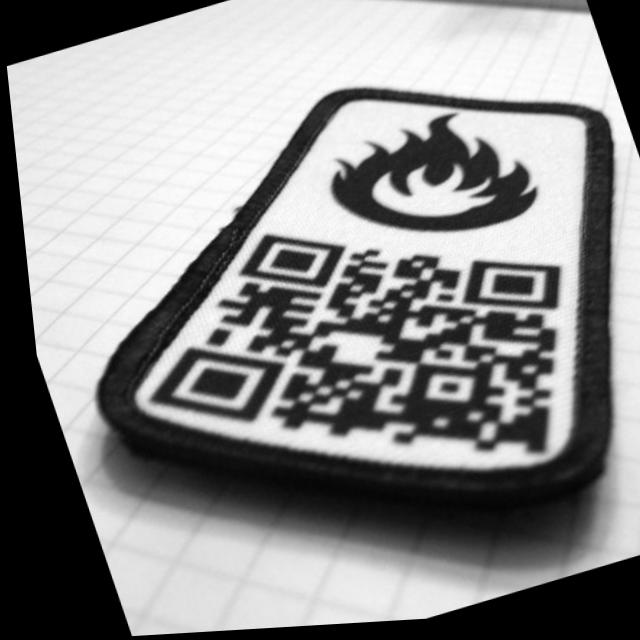qrcode: (95, 162, 614, 560)
